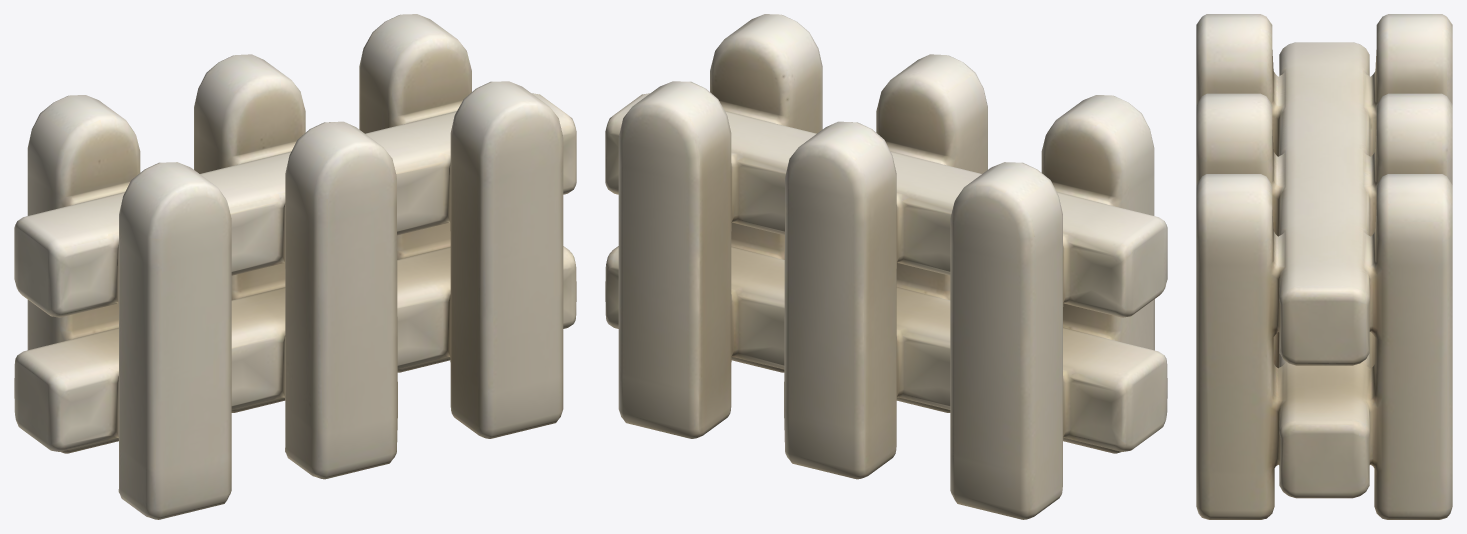
Rendered from fence.glb.
3 views of the same model, side by side, from view 1: azimuth 30°, elevation 25°; view 2: azimuth 150°, elevation 25°; view 3: azimuth 270°, elevation 25° (orthographic).
Parts seen in each view (by area): view 1: tripo_node_52e86d63-9892-4c28-99ba-e2beeff7355f; view 2: tripo_node_52e86d63-9892-4c28-99ba-e2beeff7355f; view 3: tripo_node_52e86d63-9892-4c28-99ba-e2beeff7355f.
Boxes of the visible parts, x1,y1,x2,y2 form: tripo_node_52e86d63-9892-4c28-99ba-e2beeff7355f: [14, 14, 576, 519]; tripo_node_52e86d63-9892-4c28-99ba-e2beeff7355f: [605, 14, 1167, 519]; tripo_node_52e86d63-9892-4c28-99ba-e2beeff7355f: [1196, 14, 1452, 519].
Size of the model in its own units: 0.9982 by 0.5997 by 0.4278.
Materials: 1 (1 with a texture image).
